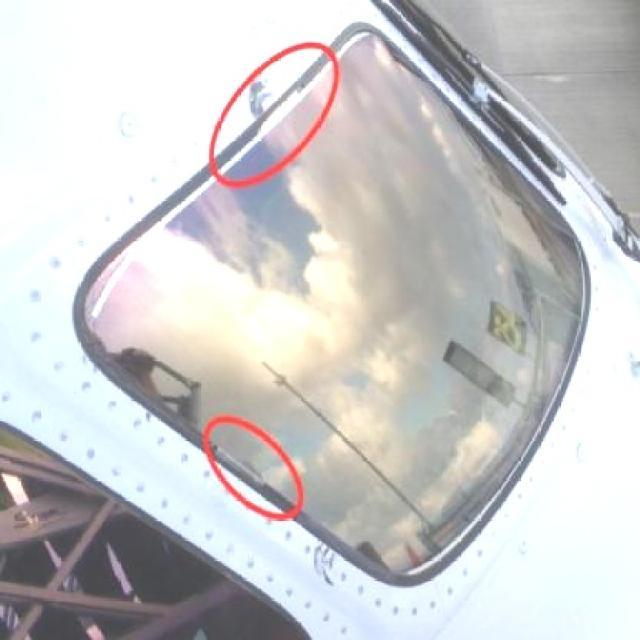crack: (314, 543, 337, 588)
